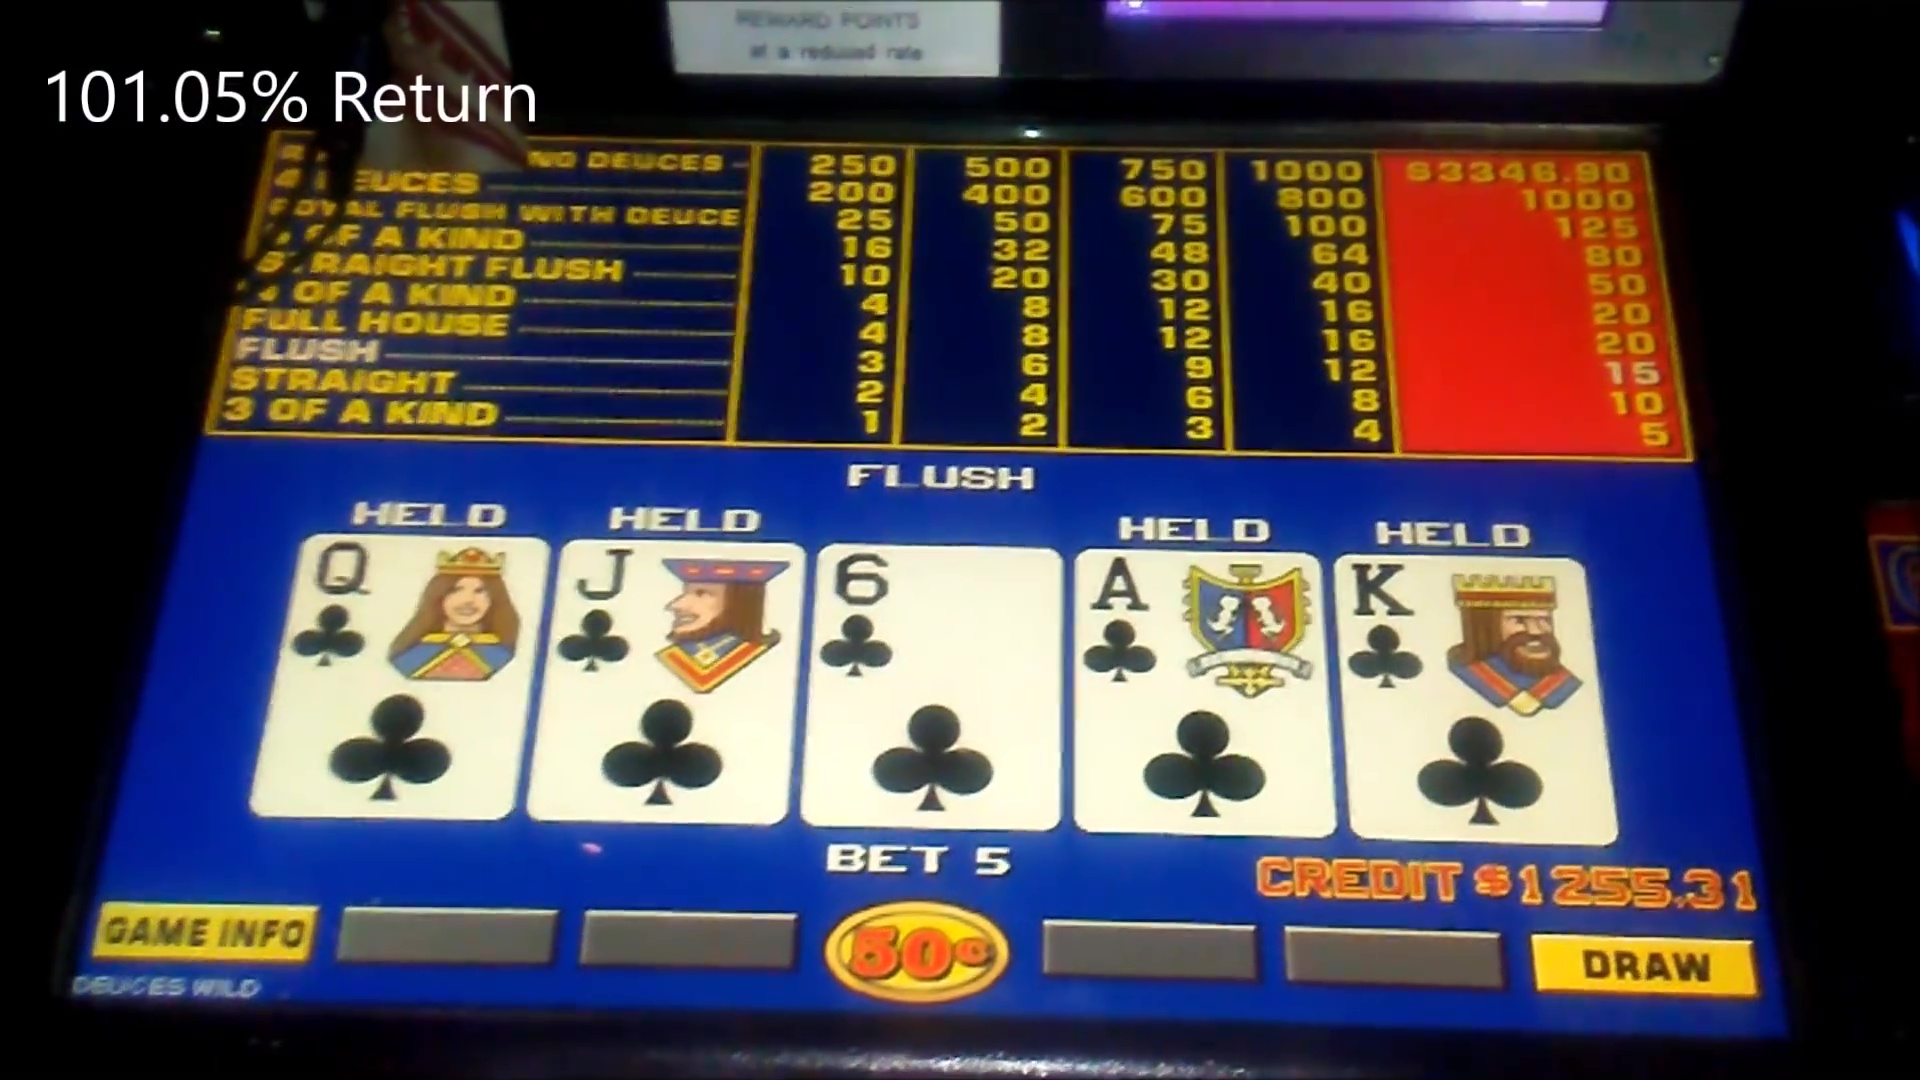6C: (815, 550, 1062, 684)
AC: (1077, 554, 1321, 690)
JC: (555, 547, 800, 687)
KC: (1344, 563, 1585, 699)
QC: (287, 535, 530, 683)
